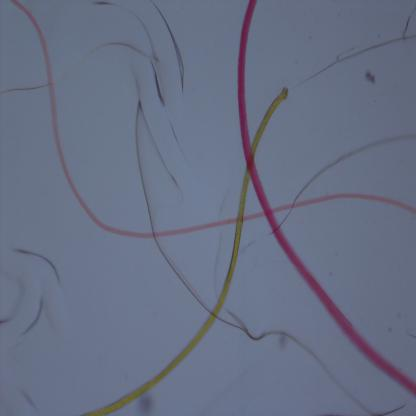Background material: (106, 2, 199, 218), (226, 310, 402, 415), (293, 122, 416, 200), (293, 23, 416, 83), (0, 240, 67, 345), (57, 25, 164, 83), (152, 237, 212, 314), (0, 77, 46, 101), (17, 388, 42, 411), (134, 394, 156, 415), (362, 67, 378, 83)
Microfibre: (10, 0, 416, 239), (237, 0, 416, 397), (79, 87, 288, 414)
